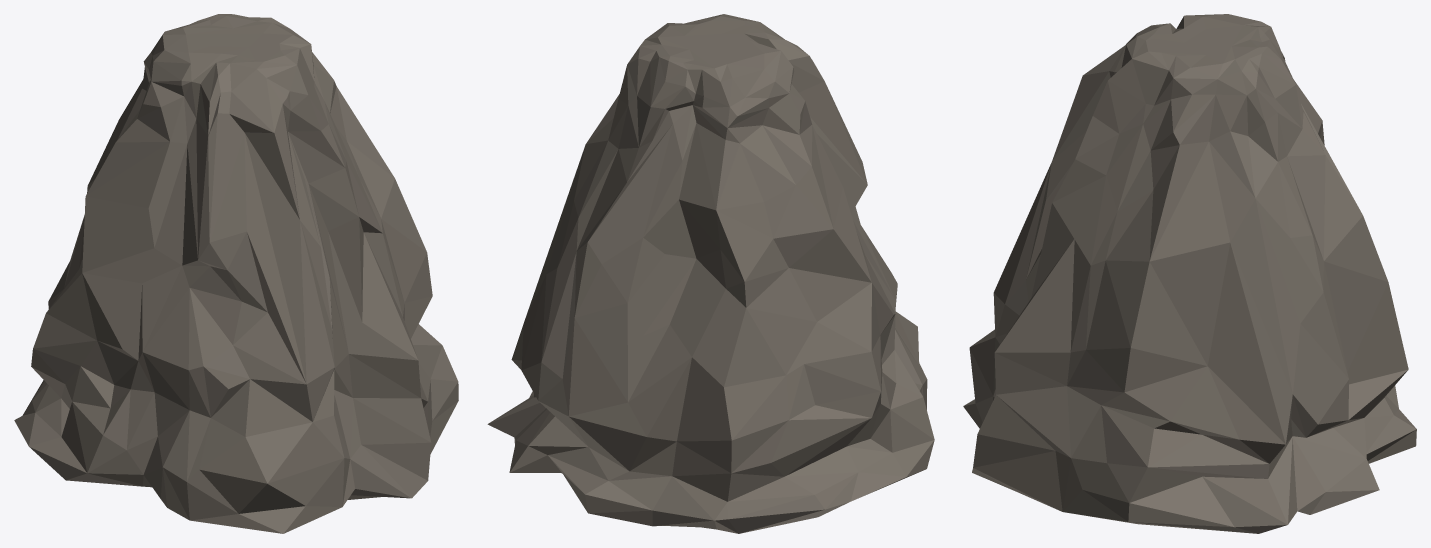
The model's file is SM_Env_Rock_Large_04.fbx.
3 views of the same model, side by side, from view 1: azimuth 30°, elevation 25°; view 2: azimuth 150°, elevation 25°; view 3: azimuth 270°, elevation 25° (orthographic). The views are drawn at different scales.
Parts seen in each view (by area): view 1: SM_Env_Rock_Large_04; view 2: SM_Env_Rock_Large_04; view 3: SM_Env_Rock_Large_04.
Part boxes in pixels (box(x1,y1,x2,y2)): SM_Env_Rock_Large_04: box(14, 14, 458, 533); SM_Env_Rock_Large_04: box(487, 14, 934, 533); SM_Env_Rock_Large_04: box(963, 14, 1416, 533).
Bounding box in the file's own units: 5.92 × 5.95 × 5.92.
